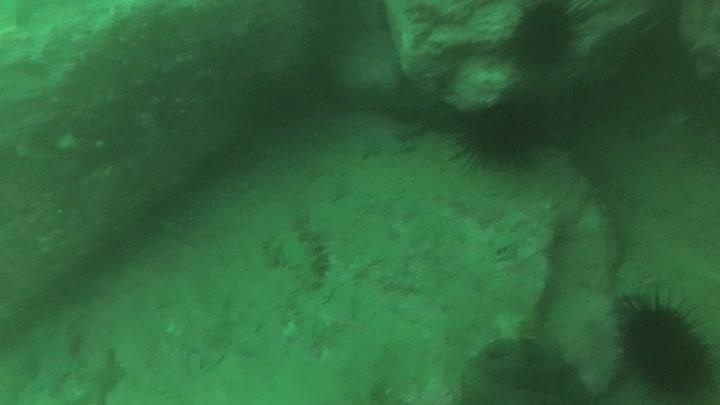echinus: (611, 290, 717, 401), (452, 96, 552, 170), (506, 1, 586, 72)
holothurian: (281, 211, 334, 289)
starfish: (21, 325, 84, 398), (343, 111, 423, 161), (75, 346, 129, 404)
